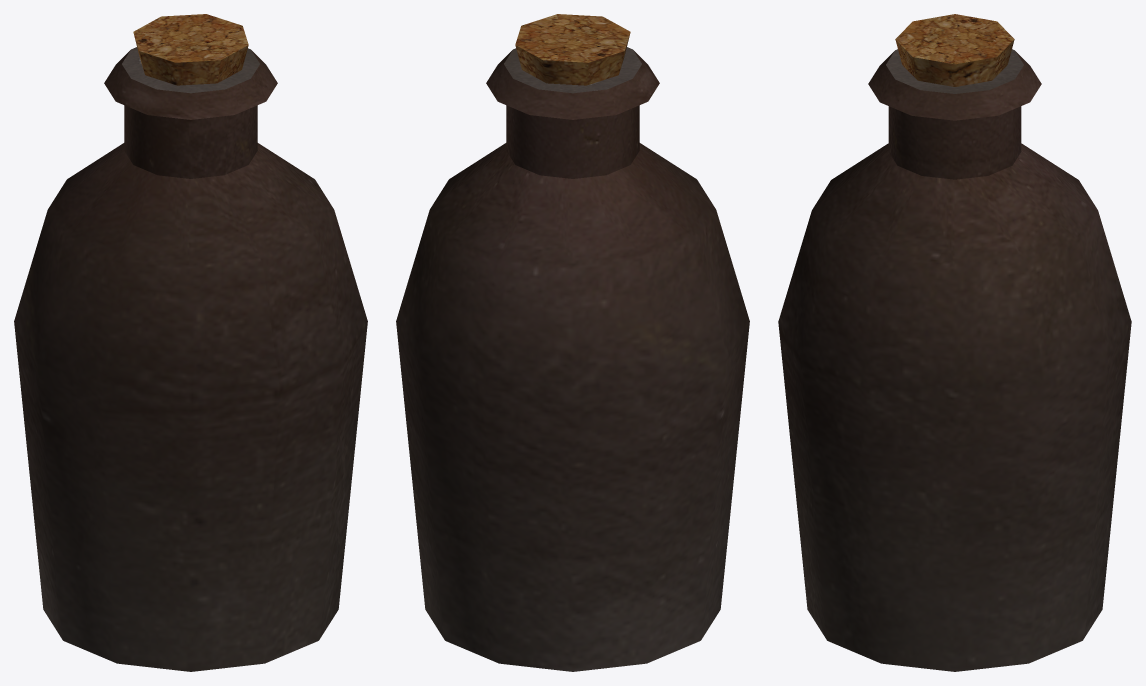
Rendered from Jug3.fbx.
3 renders of one model, left to right at view 1: azimuth 30°, elevation 25°; view 2: azimuth 150°, elevation 25°; view 3: azimuth 270°, elevation 25°, orthographic.
Parts seen in each view (by area): view 1: jug3:polySurface1; view 2: jug3:polySurface1; view 3: jug3:polySurface1.
Part boxes in pixels (bbox=[...]): jug3:polySurface1: bbox=[14, 14, 367, 671]; jug3:polySurface1: bbox=[396, 14, 749, 671]; jug3:polySurface1: bbox=[778, 14, 1131, 671].
Size of the model in its own units: 1.17 by 2.08 by 1.17.
